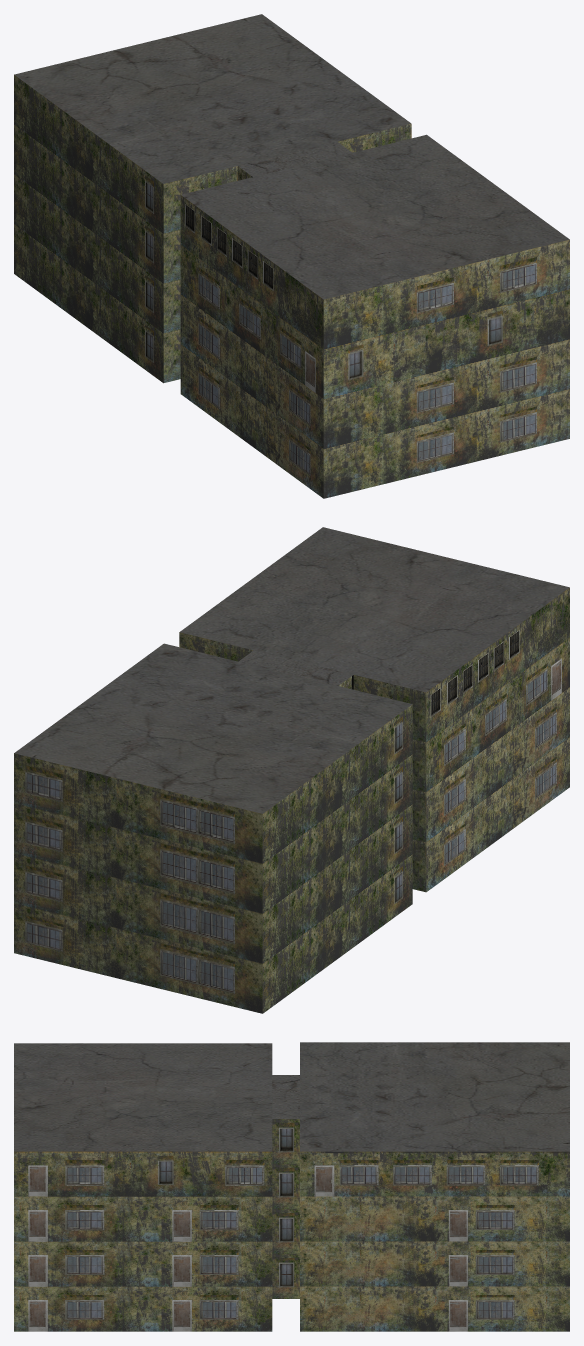
Rendered from Apt4_LOD.FBX.
3 renders of one model, top to bottom at view 1: azimuth 30°, elevation 25°; view 2: azimuth 150°, elevation 25°; view 3: azimuth 270°, elevation 25°, orthographic. The views are drawn at different scales.
Parts seen in each view (by area): view 1: Apt4_LOD; view 2: Apt4_LOD; view 3: Apt4_LOD.
Boxes of the visible parts, x1,y1,x2,y2 form: Apt4_LOD: [14, 14, 569, 498]; Apt4_LOD: [14, 527, 569, 1013]; Apt4_LOD: [14, 1042, 569, 1331].
Size of the model in its own units: 1667 by 1280 by 3586.
1 material, 1 textured.
